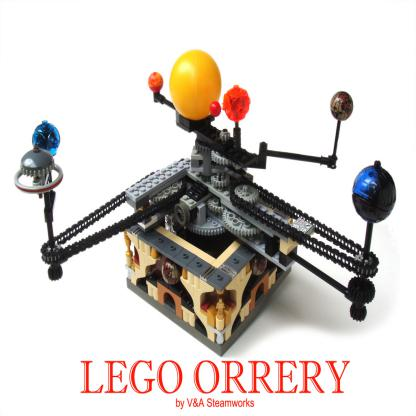Ball: (169, 47, 221, 120)
